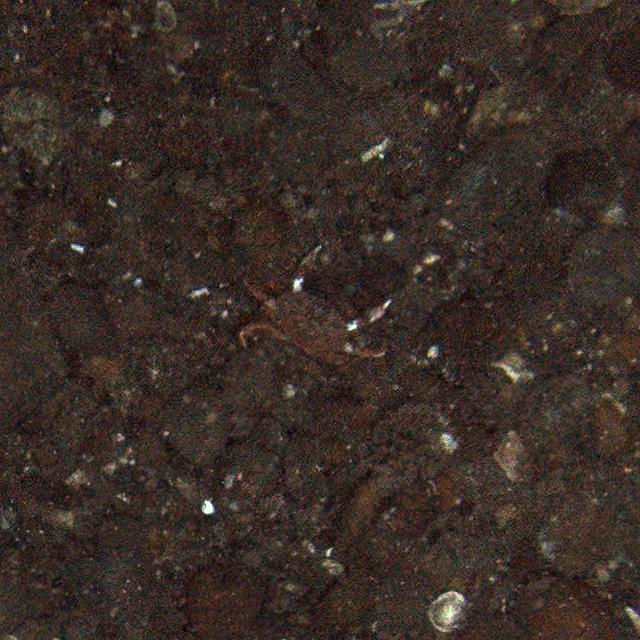crab: (230, 244, 395, 371)
